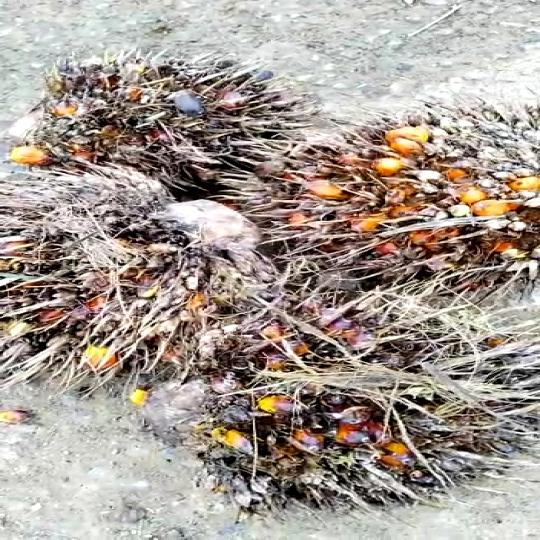terlalu masak: (0, 193, 305, 406), (213, 113, 540, 290), (161, 344, 540, 495), (0, 45, 335, 194)
